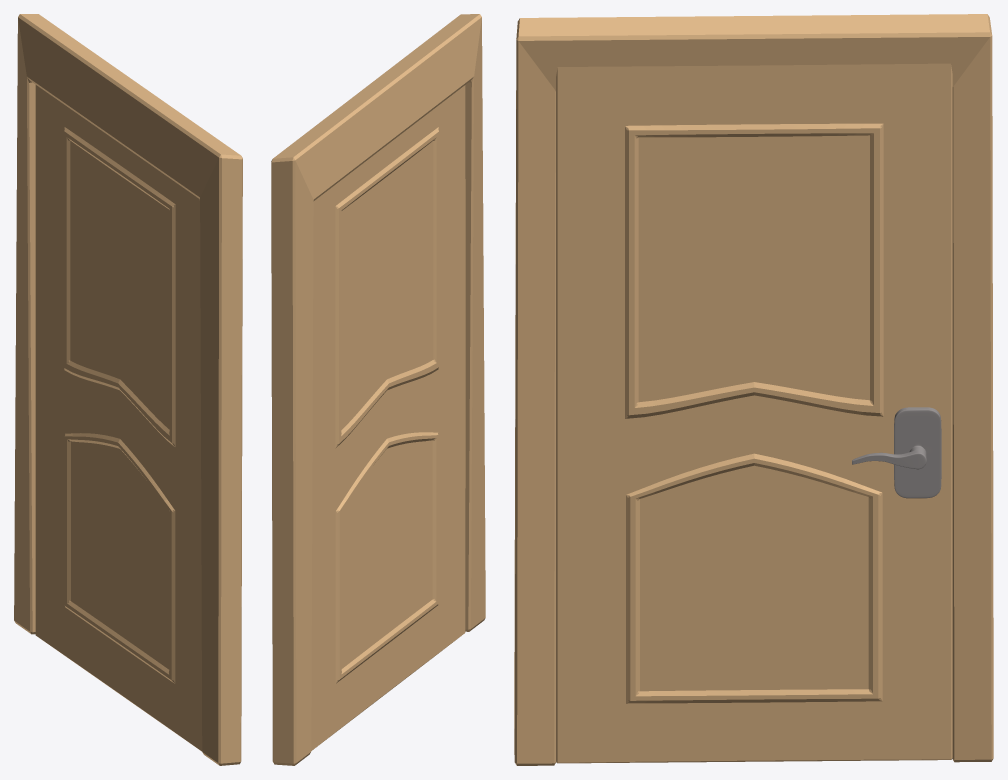
The model's file is Puerta.fbx.
3 views of the same model, side by side, from view 1: azimuth 30°, elevation 25°; view 2: azimuth 150°, elevation 25°; view 3: azimuth 270°, elevation 25° (orthographic). The views are drawn at different scales.
Parts seen in each view (by area): view 1: Puerta.004; view 2: Puerta.004; view 3: Puerta.004.
Part boxes in pixels (left/top/right/bottom): Puerta.004: left=14, top=14, right=242, bottom=765; Puerta.004: left=271, top=14, right=485, bottom=765; Puerta.004: left=514, top=14, right=993, bottom=765.
Bounding box in the file's own units: 2.02 × 27.29 × 16.08.
